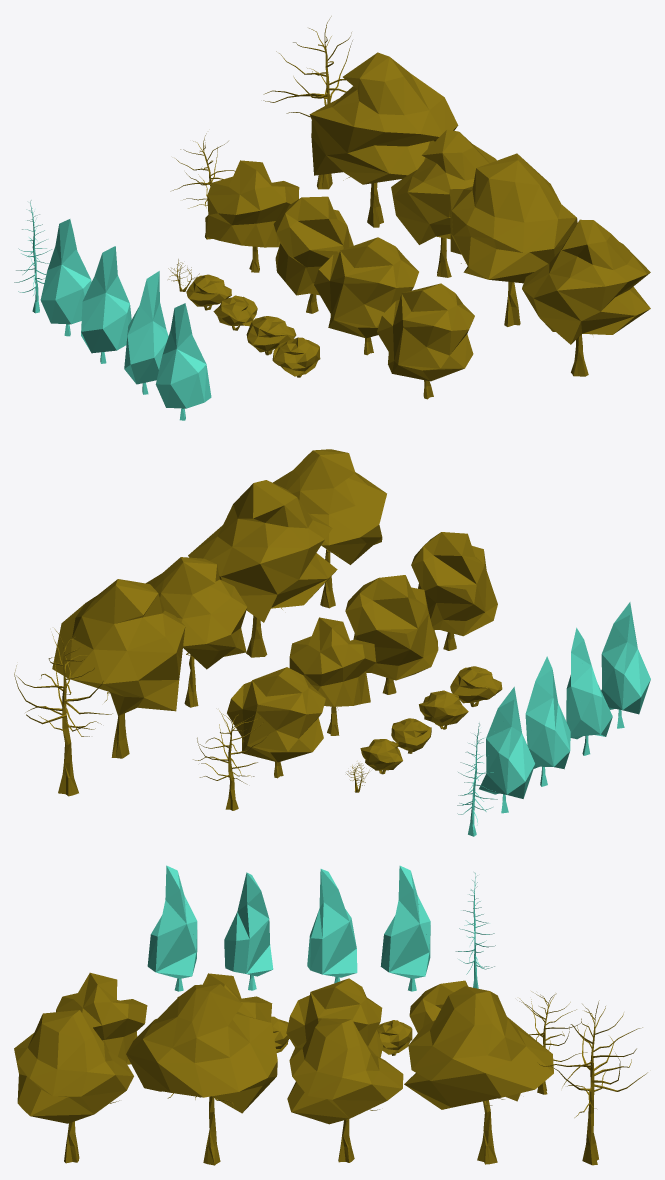
File: low_poly_trees_by_doubleagent2005.obj
3 renders of one model, top to bottom at view 1: azimuth 30°, elevation 25°; view 2: azimuth 150°, elevation 25°; view 3: azimuth 270°, elevation 25°, orthographic.
Visible parts, largest first — view 1: LOW_POLY_Tree_2_005, LOW_POLY_Tree_2_008, LOW_POLY_Tree_2_006, LOW_POLY_Tree_1_007, LOW_POLY_Tree_1_008, LOW_POLY_Tree_2_007, LOW_POLY_Tree_1_005, LOW_POLY_Tree_1_006, LOW_POLY_Tree_3_006, LOW_POLY_Tree_3_008, LOW_POLY_Tree_3_005, LOW_POLY_Tree_3_007 (+6 smaller); view 2: LOW_POLY_Tree_2_005, LOW_POLY_Tree_2_008, LOW_POLY_Tree_2_006, LOW_POLY_Tree_2_007, LOW_POLY_Tree_1_008, LOW_POLY_Tree_1_005, LOW_POLY_Tree_1_007, LOW_POLY_Tree_1_006, LOW_POLY_Tree_3_005, LOW_POLY_Tree_3_008, LOW_POLY_Tree_3_006, LOW_POLY_Tree_3_007 (+7 smaller); view 3: LOW_POLY_Tree_2_008, LOW_POLY_Tree_2_005, LOW_POLY_Tree_2_006, LOW_POLY_Tree_2_007, LOW_POLY_Tree_1_006, LOW_POLY_Tree_1_007, LOW_POLY_Tree_3_005, LOW_POLY_Tree_3_008, LOW_POLY_Tree_3_006, LOW_POLY_Tree_3_007, LOW_POLY_Tree_2_009, LOW_POLY_Tree_1_005 (+5 smaller).
Boxes of the visible parts, x1,y1,x2,y2 form: LOW_POLY_Tree_2_005: (309,52,458,227); LOW_POLY_Tree_2_008: (449,153,577,326); LOW_POLY_Tree_2_006: (522,219,650,376); LOW_POLY_Tree_1_007: (377,283,474,399); LOW_POLY_Tree_1_008: (314,237,418,355); LOW_POLY_Tree_2_007: (391,129,496,277); LOW_POLY_Tree_1_005: (205,160,299,272); LOW_POLY_Tree_1_006: (273,196,353,313); LOW_POLY_Tree_3_006: (81,246,131,363); LOW_POLY_Tree_3_008: (155,303,211,420); LOW_POLY_Tree_3_005: (40,219,91,336); LOW_POLY_Tree_3_007: (124,271,168,394); LOW_POLY_Tree_2_005: (52,579,185,758); LOW_POLY_Tree_2_008: (188,480,337,657); LOW_POLY_Tree_2_006: (273,449,386,608); LOW_POLY_Tree_2_007: (146,557,247,707); LOW_POLY_Tree_1_008: (345,575,438,694); LOW_POLY_Tree_1_005: (227,667,325,778); LOW_POLY_Tree_1_007: (411,532,497,650); LOW_POLY_Tree_1_006: (289,617,376,735); LOW_POLY_Tree_3_005: (479,686,534,813); LOW_POLY_Tree_3_008: (601,602,650,728); LOW_POLY_Tree_3_006: (525,656,570,786); LOW_POLY_Tree_3_007: (566,627,612,755); LOW_POLY_Tree_2_008: (126,984,277,1165); LOW_POLY_Tree_2_005: (404,986,553,1164); LOW_POLY_Tree_2_006: (14,1010,133,1163); LOW_POLY_Tree_2_007: (287,1018,403,1162); LOW_POLY_Tree_1_006: (286,978,383,1057); LOW_POLY_Tree_1_007: (56,972,147,1064); LOW_POLY_Tree_3_005: (380,865,430,991); LOW_POLY_Tree_3_008: (147,865,197,991); LOW_POLY_Tree_3_006: (307,869,357,983); LOW_POLY_Tree_3_007: (224,872,273,990); LOW_POLY_Tree_2_009: (539,1000,647,1165); LOW_POLY_Tree_1_005: (409,980,467,1033).
Bounding box in the file's own units: 910 × 340 × 1144.
